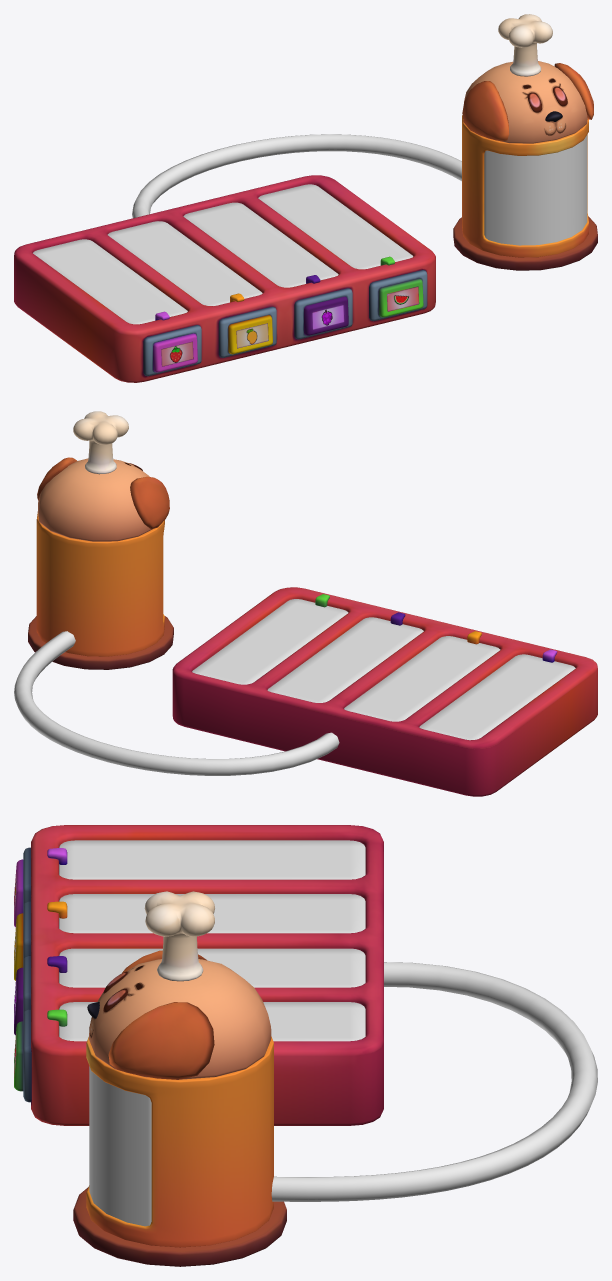
File: Scooopppit_new (2).fbx
3 views of the same model, one above another, from view 1: azimuth 30°, elevation 25°; view 2: azimuth 150°, elevation 25°; view 3: azimuth 270°, elevation 25° (orthographic). The views are drawn at different scales.
Parts seen in each view (by area): view 1: Scoop, Cube.045, Cylinder.007, NurbsPath, Cube.024, Cube.022, Cube.051, Cube.025, container.001, container; view 2: Scoop, container.001, Cube.045, NurbsPath, Cube.024, Cube.022, Cube.051, Cube.025, container; view 3: Scoop, container.001, Cube.045, NurbsPath, Cube.051, Cube.025, Cube.024, Cylinder.007, Cube.022, container.
Part boxes in pixels (bbox=[...]): Scoop: bbox=[14, 175, 435, 382]; Cube.045: bbox=[462, 14, 593, 143]; Cylinder.007: bbox=[484, 135, 587, 245]; NurbsPath: bbox=[132, 134, 461, 218]; Cube.024: bbox=[183, 202, 338, 287]; Cube.022: bbox=[258, 184, 413, 269]; Cube.051: bbox=[33, 239, 187, 324]; Cube.025: bbox=[107, 221, 262, 305]; container.001: bbox=[462, 115, 588, 257]; container: bbox=[453, 216, 597, 270]; Scoop: bbox=[172, 587, 597, 796]; container.001: bbox=[36, 511, 164, 656]; Cube.045: bbox=[37, 411, 169, 541]; NurbsPath: bbox=[14, 631, 339, 775]; Cube.024: bbox=[267, 612, 423, 702]; Cube.022: bbox=[192, 594, 348, 684]; Cube.051: bbox=[419, 649, 575, 740]; Cube.025: bbox=[344, 631, 500, 721]; container: bbox=[28, 616, 173, 669]; Scoop: bbox=[14, 825, 383, 1125]; container.001: bbox=[86, 1036, 273, 1247]; Cube.045: bbox=[87, 891, 271, 1079]; NurbsPath: bbox=[271, 962, 597, 1201]; Cube.051: bbox=[47, 840, 365, 879]; Cube.025: bbox=[47, 894, 365, 933]; Cube.024: bbox=[47, 948, 365, 987]; Cylinder.007: bbox=[89, 1066, 151, 1226]; Cube.022: bbox=[47, 1002, 365, 1041]; container: bbox=[73, 1187, 286, 1266].
Bounding box in the file's own units: 1404 × 941 × 574.
